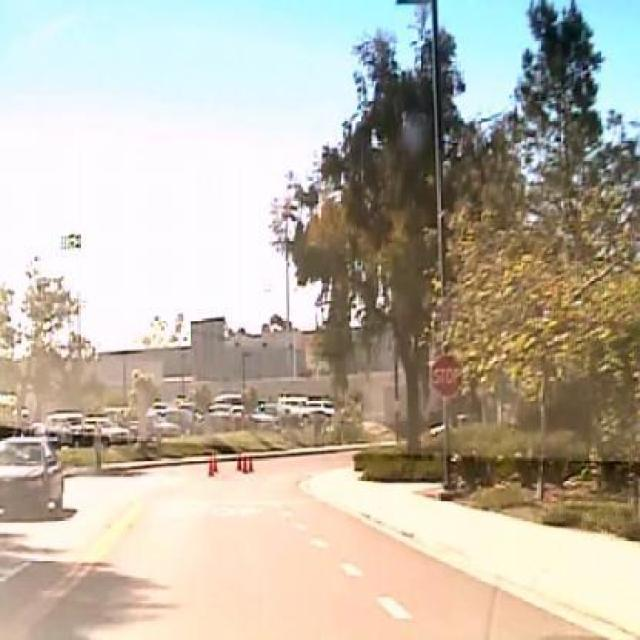stop: (430, 354, 464, 398)
